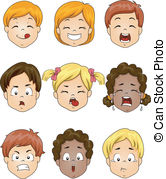face: (43, 60, 106, 114), (105, 62, 152, 114), (1, 1, 45, 53), (1, 59, 42, 114), (53, 3, 99, 49), (50, 129, 95, 176), (2, 128, 45, 177), (102, 127, 144, 177), (103, 1, 144, 50)
